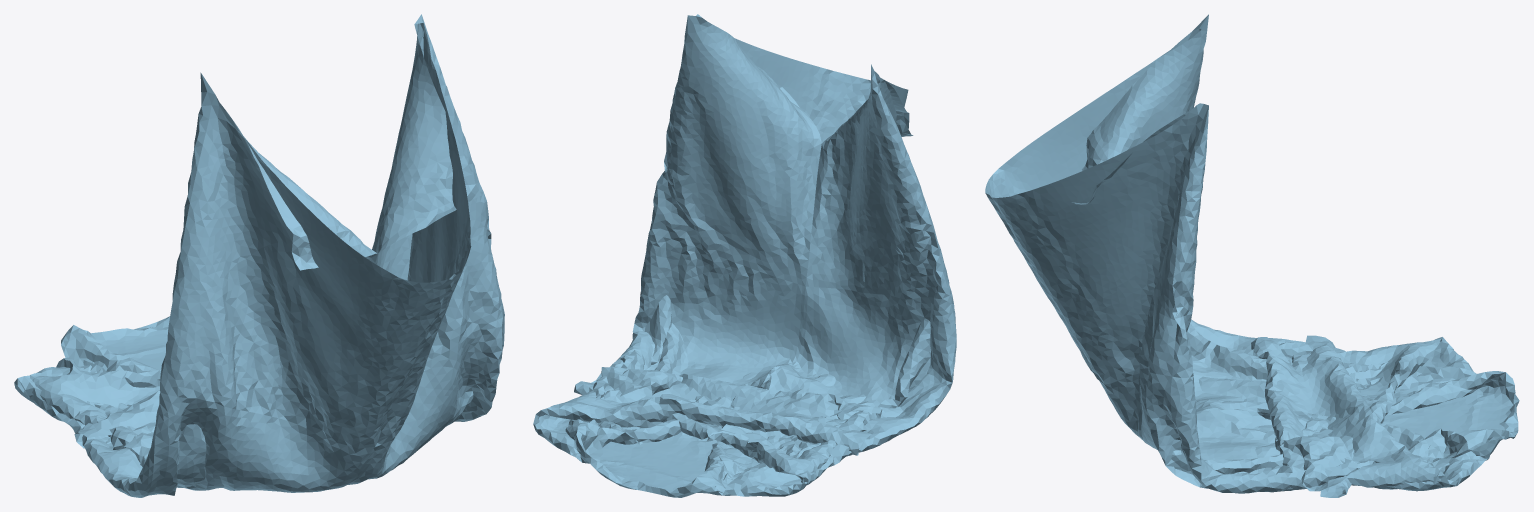
File: frame_11.glb
The picture shows the model from 3 angles, left to right: view 1: azimuth 30°, elevation 25°; view 2: azimuth 150°, elevation 25°; view 3: azimuth 270°, elevation 25°; orthographic projection. The views are drawn at different scales.
Visible parts, largest first — view 1: frame_11.obj; view 2: frame_11.obj; view 3: frame_11.obj.
Boxes of the visible parts, left/top/right/bottom form: frame_11.obj: left=14, top=14, right=504, bottom=497; frame_11.obj: left=533, top=14, right=956, bottom=497; frame_11.obj: left=985, top=14, right=1519, bottom=497.
Bounding box in the file's own units: 0.9241 × 0.9971 × 1.3.
